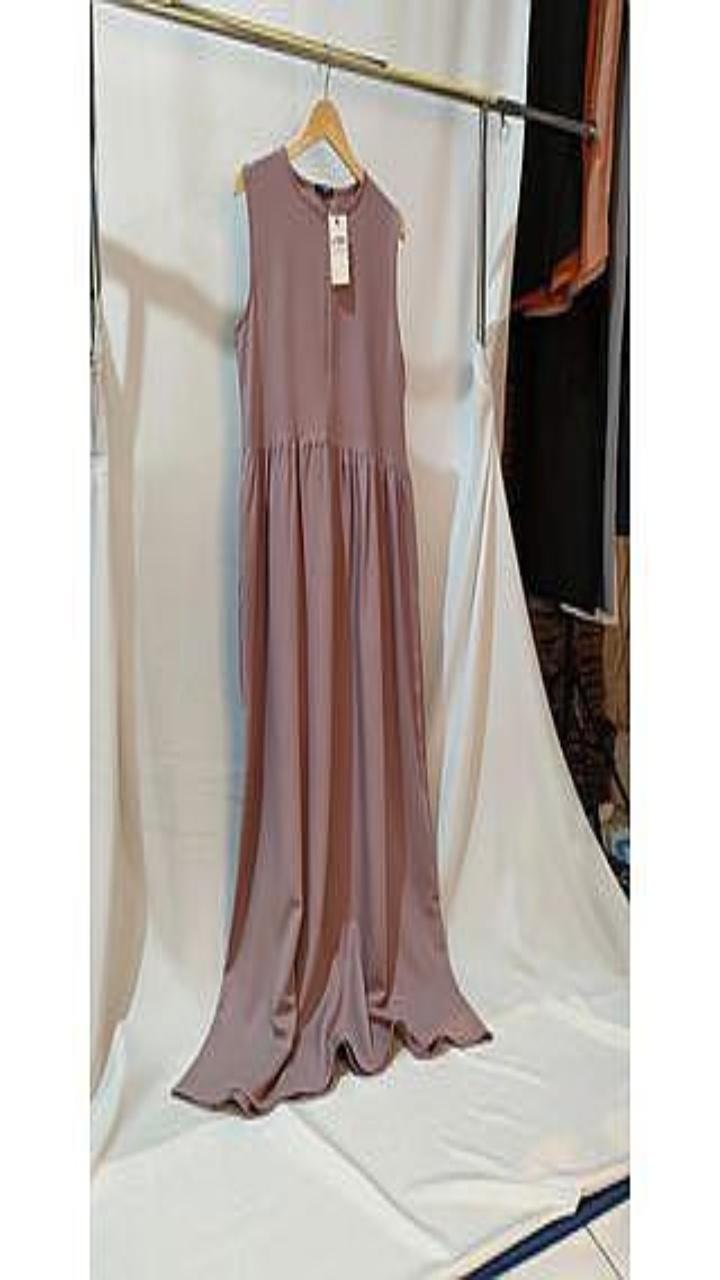Dresses: (172, 148, 490, 1113)
